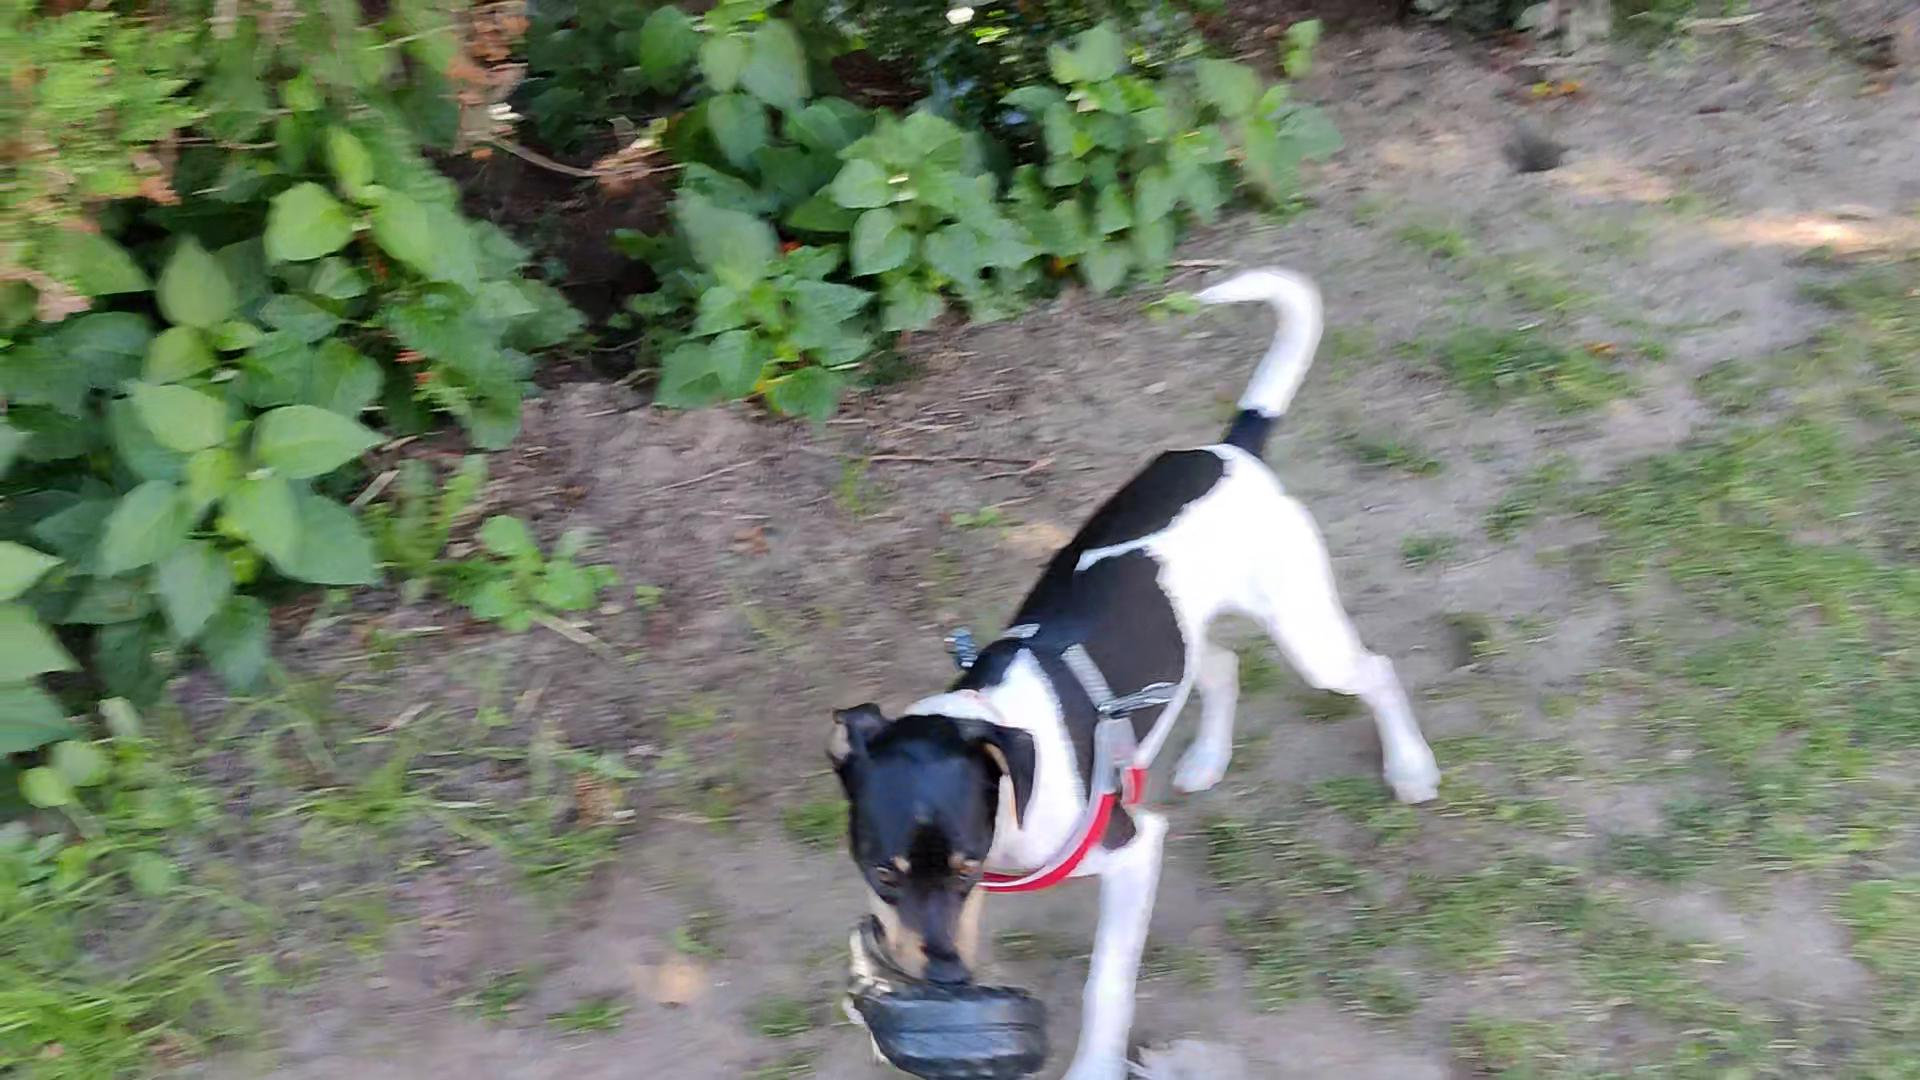Dog: (818, 257, 1453, 1079)
